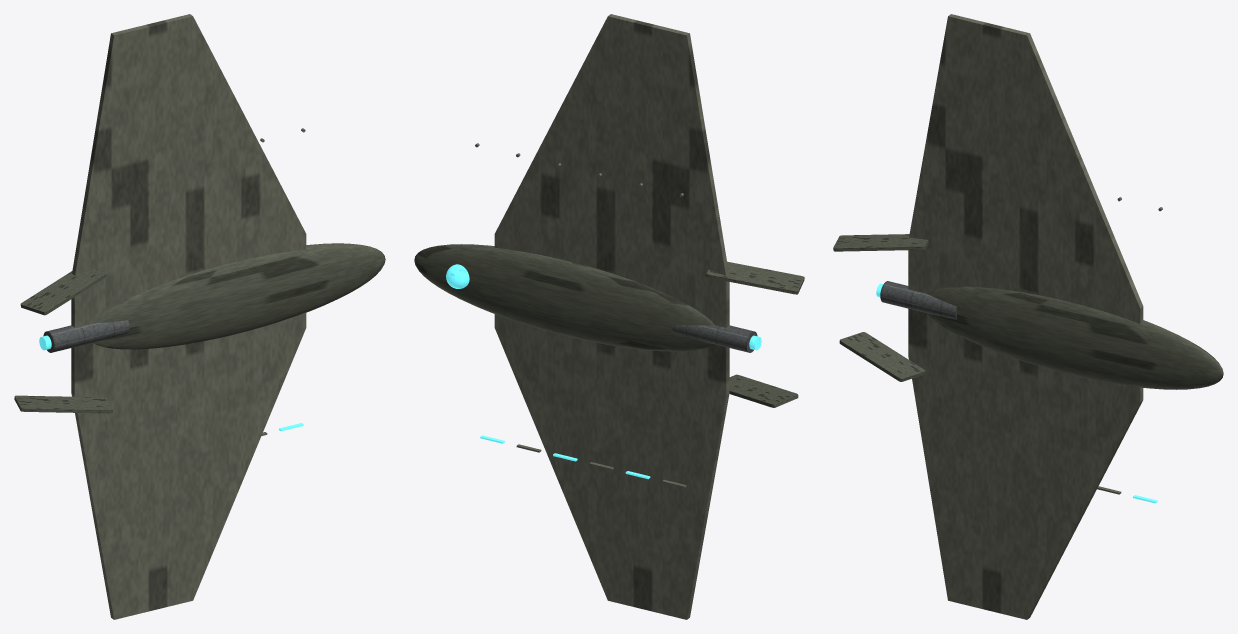
File: v-u22-vanguard-recon-drone-lod0.glb
3 views of the same model, side by side, from view 1: azimuth 30°, elevation 25°; view 2: azimuth 150°, elevation 25°; view 3: azimuth 330°, elevation 25° (orthographic).
Parts seen in each view (by area): view 1: recon_drone_wing, recon_drone_spine, recon_drone_vtail_1, recon_engine_0, recon_drone_vtail_-1; view 2: recon_drone_wing, recon_drone_spine, recon_drone_vtail_1, recon_engine_0, recon_drone_vtail_-1; view 3: recon_drone_wing, recon_drone_spine, recon_drone_vtail_-1, recon_engine_0, recon_drone_vtail_1.
Boxes of the visible parts, x1=… form: recon_drone_wing: x1=71, y1=14, x2=306, y2=619; recon_drone_spine: x1=92, y1=243, x2=385, y2=349; recon_drone_vtail_1: x1=20, y1=269, x2=106, y2=315; recon_engine_0: x1=43, y1=320, x2=129, y2=352; recon_drone_vtail_-1: x1=14, y1=395, x2=112, y2=413; recon_drone_wing: x1=494, y1=14, x2=729, y2=619; recon_drone_spine: x1=414, y1=244, x2=714, y2=351; recon_drone_vtail_1: x1=706, y1=261, x2=804, y2=294; recon_engine_0: x1=671, y1=325, x2=757, y2=352; recon_drone_vtail_-1: x1=729, y1=374, x2=798, y2=407; recon_drone_wing: x1=908, y1=14, x2=1143, y2=619; recon_drone_spine: x1=926, y1=286, x2=1223, y2=389; recon_drone_vtail_-1: x1=839, y1=332, x2=925, y2=381; recon_engine_0: x1=880, y1=281, x2=956, y2=319; recon_drone_vtail_1: x1=833, y1=234, x2=928, y2=251.
Size of what is drawn, in the model's own units: 7.26 by 10.82 by 1.23.
Materials: 5 (5 with a texture image).
